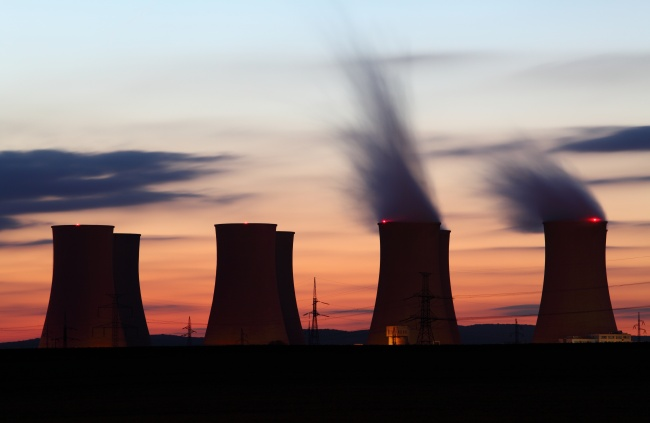dust: (490, 149, 619, 232), (341, 144, 455, 236)
